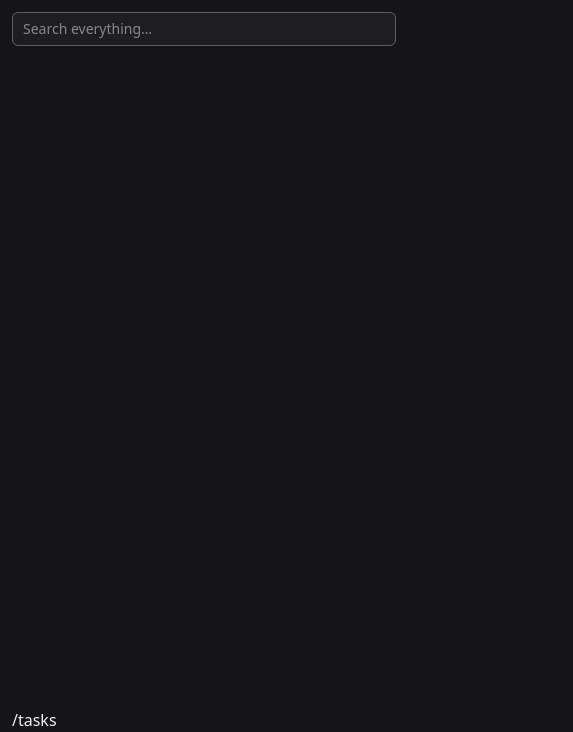
GlobalSearch › closes with Escape
Type "zzz" into the search field at {"x": 204, "y": 29}, box top-left (12, 12), bottom-right (396, 46)
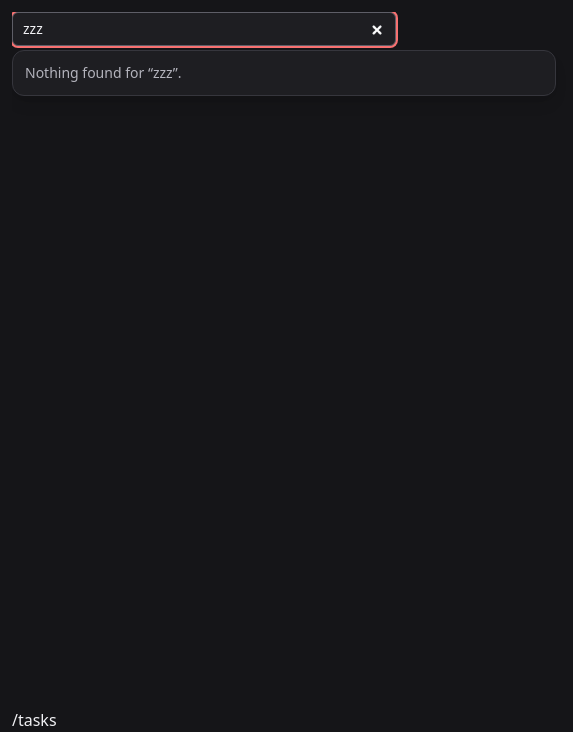
Press Escape
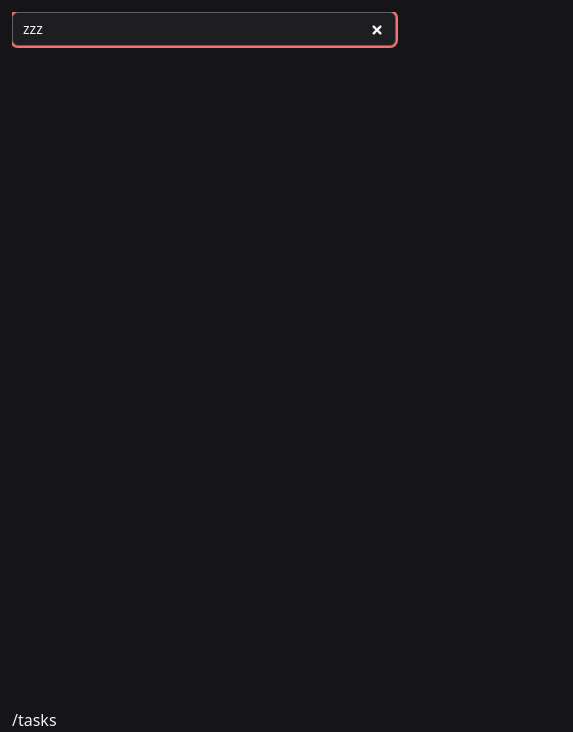
Expected: the element with test id "global-search-results" is gone
